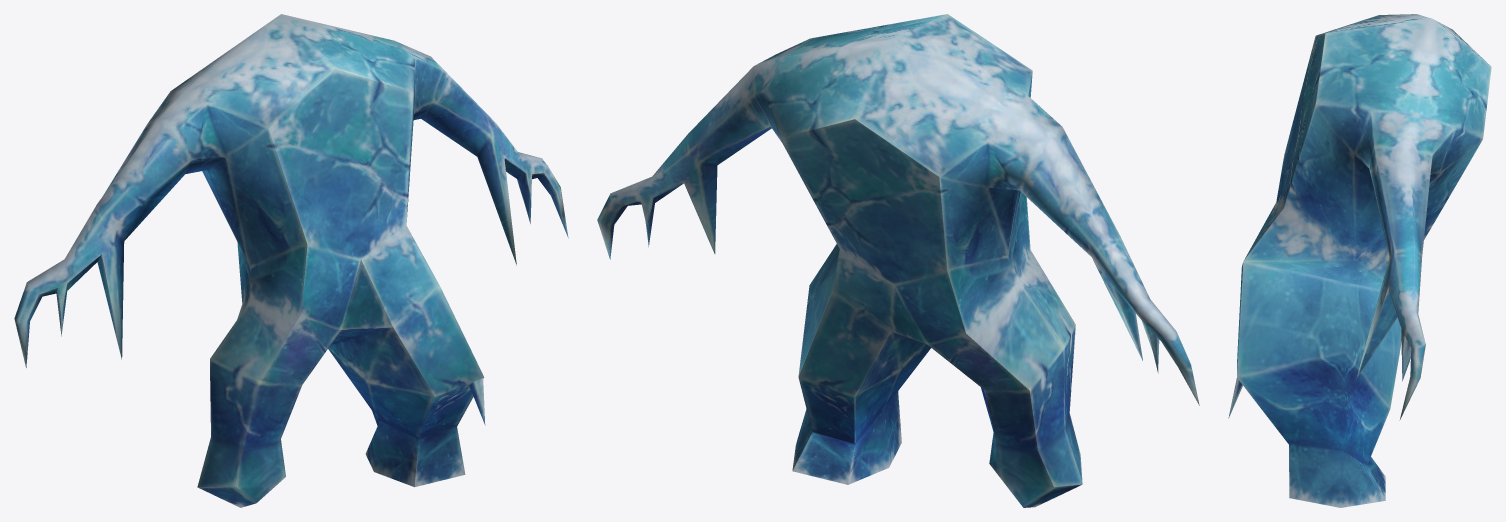
Rendered from Stage_BingYuan_BingDiao03.FBX.
3 renders of one model, left to right at view 1: azimuth 30°, elevation 25°; view 2: azimuth 150°, elevation 25°; view 3: azimuth 270°, elevation 25°, orthographic. The views are drawn at different scales.
Visible parts, largest first — view 1: Stage_BingYuan_BingDiao03; view 2: Stage_BingYuan_BingDiao03; view 3: Stage_BingYuan_BingDiao03.
Part boxes in pixels (<box>): Stage_BingYuan_BingDiao03: <box>14,14,568,507</box>; Stage_BingYuan_BingDiao03: <box>597,14,1199,507</box>; Stage_BingYuan_BingDiao03: <box>1228,14,1491,507</box>.
Size of the model in its own units: 453 by 348 by 193.
